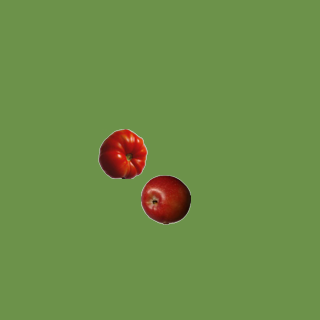Apple Braeburn: (140, 174, 190, 224)
Tomato 3: (97, 128, 147, 178)
